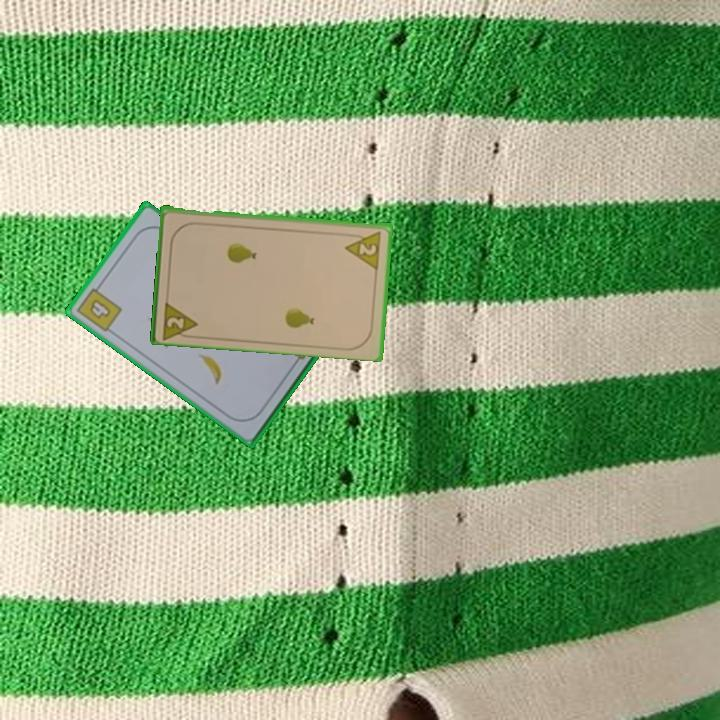2p: (159, 296, 201, 341), (342, 227, 384, 270)
4b: (73, 279, 125, 335)
